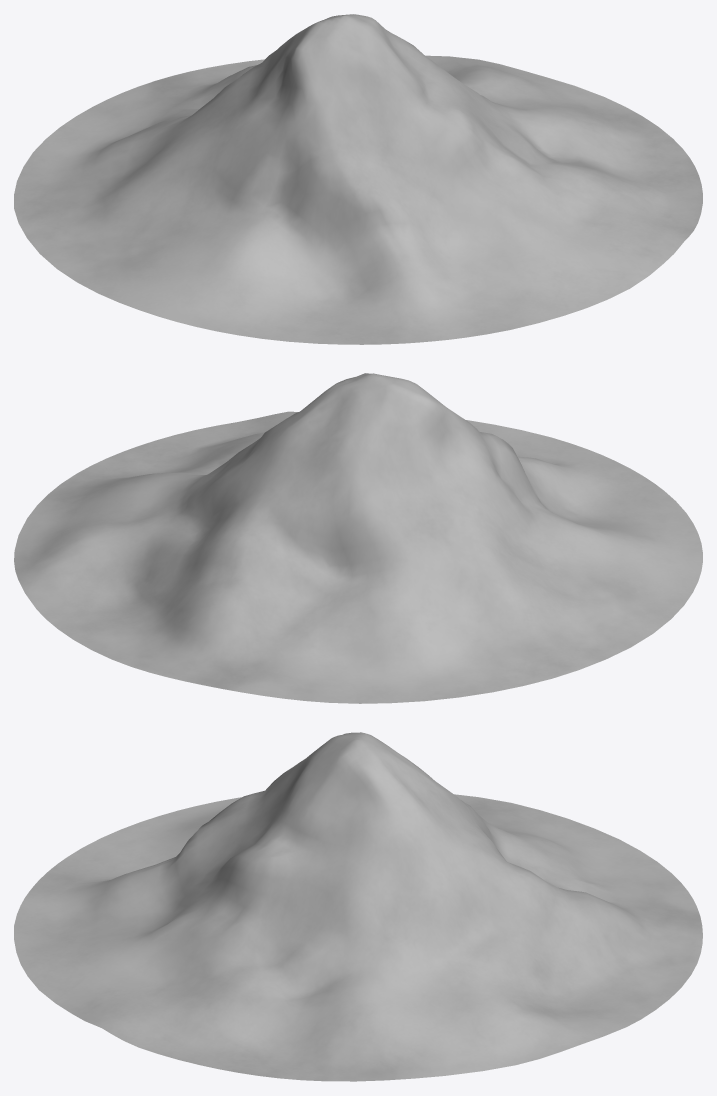
The model's file is flour.fbx.
3 views of the same model, one above another, from view 1: azimuth 30°, elevation 25°; view 2: azimuth 150°, elevation 25°; view 3: azimuth 270°, elevation 25° (orthographic).
Parts seen in each view (by area): view 1: flour; view 2: flour; view 3: flour.
Part boxes in pixels (box(x1,y1,x2,y2)): flour: box(14, 14, 702, 344); flour: box(14, 373, 702, 703); flour: box(14, 732, 702, 1081).
Bounding box in the file's own units: 21.1 × 6.36 × 21.01.
Materials: 1 (1 with a texture image).
